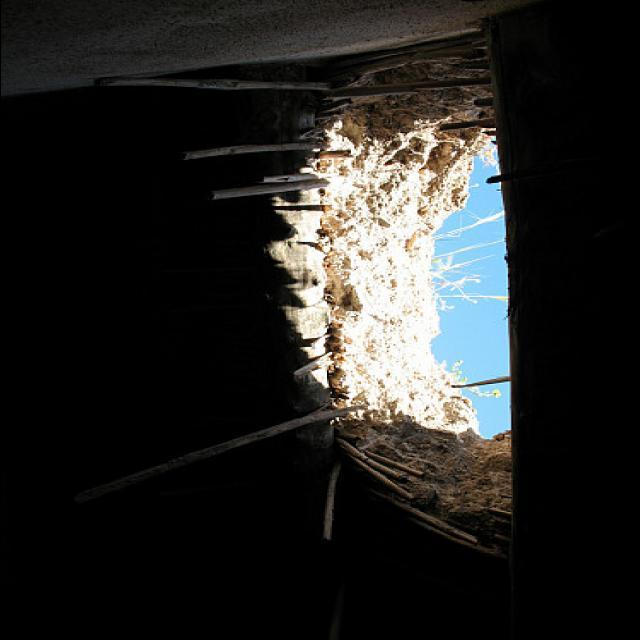Crack: (279, 41, 520, 534)
